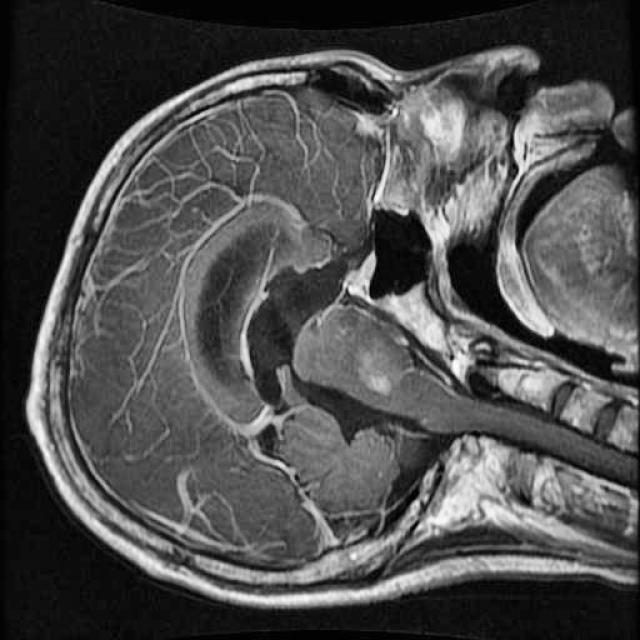Non-Tumor: (339, 314, 412, 411)
